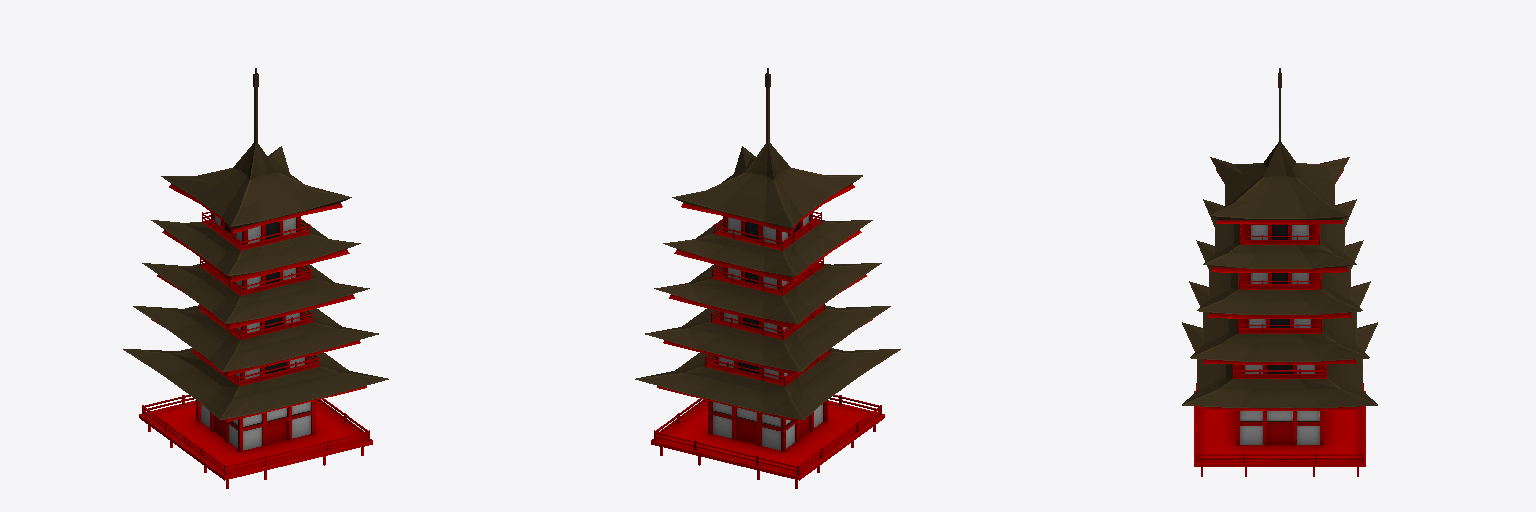
The picture shows the model from 3 angles: view 1: azimuth 30°, elevation 25°; view 2: azimuth 150°, elevation 25°; view 3: azimuth 270°, elevation 25°; orthographic projection.
Parts seen in each view (by area): view 1: Pagoda_mesh; view 2: Pagoda_mesh; view 3: Pagoda_mesh.
Part boxes in pixels (x1,y1,x2,y2): Pagoda_mesh: (123, 68, 388, 488); Pagoda_mesh: (635, 68, 900, 488); Pagoda_mesh: (1182, 68, 1377, 476).
Bounding box in the file's own units: 26.41 × 55.5 × 26.41.
1 materials, 1 textured.